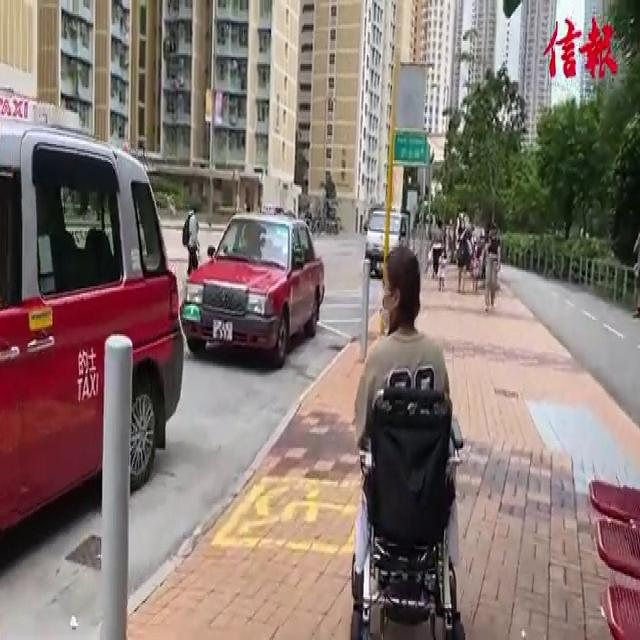wheelchairs: (334, 359, 478, 640)
